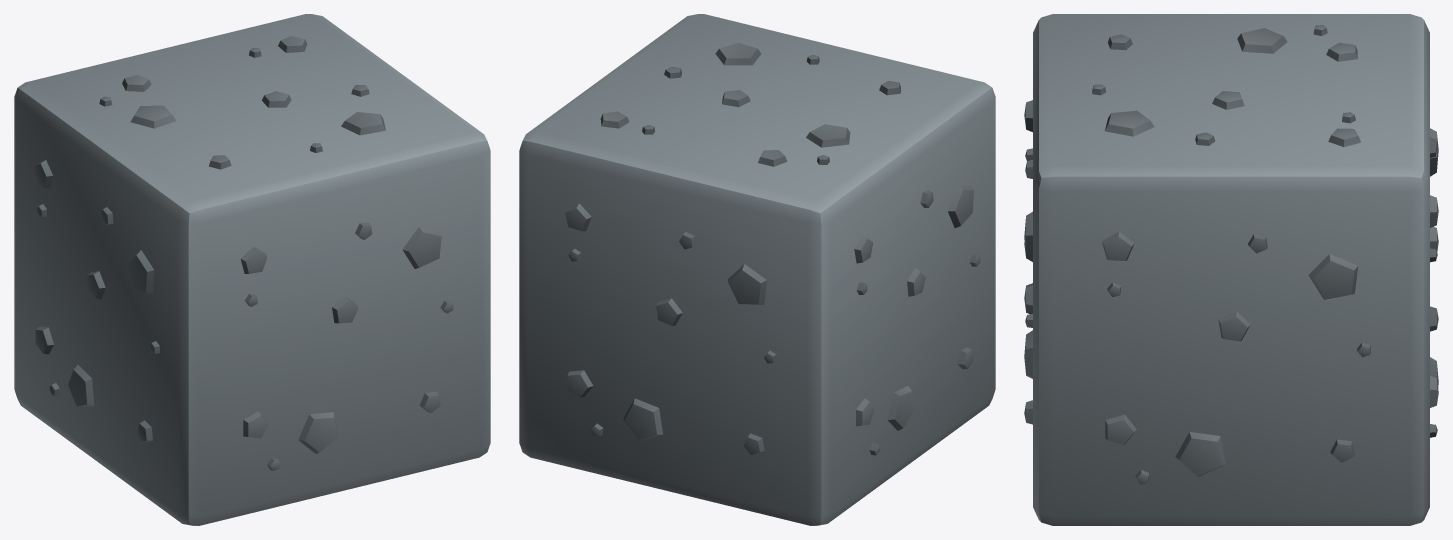
The model's file is gravel.glb.
3 renders of one model, left to right at view 1: azimuth 30°, elevation 25°; view 2: azimuth 150°, elevation 25°; view 3: azimuth 270°, elevation 25°, orthographic. The views are drawn at different scales.
Visible parts, largest first — view 1: gravel; view 2: gravel; view 3: gravel.
Part boxes in pixels (box(x1,y1,x2,y2)): gravel: box(14, 14, 490, 525); gravel: box(519, 14, 995, 525); gravel: box(1024, 14, 1438, 525).
Bounding box in the file's own units: 2.09 × 2.09 × 2.09.
1 material, 1 textured.
